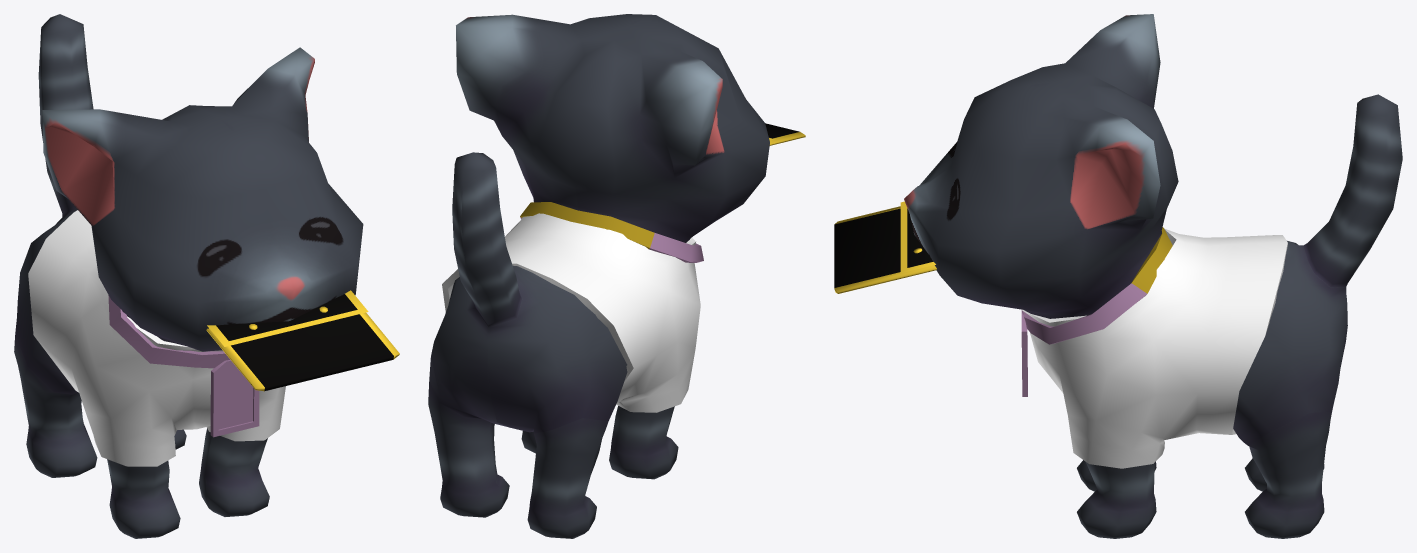
File: Student Cat01_04.fbx
3 views of the same model, side by side, from view 1: azimuth 30°, elevation 25°; view 2: azimuth 150°, elevation 25°; view 3: azimuth 270°, elevation 25° (orthographic). The views are drawn at different scales.
Parts seen in each view (by area): view 1: Cat_Base003, tshirt, Plastic Envelope, id; view 2: Cat_Base003, tshirt, id, Plastic Envelope; view 3: Cat_Base003, tshirt, Plastic Envelope, id.
Part boxes in pixels (x1,y1,x2,y2): Cat_Base003: (14, 14, 363, 538); tshirt: (28, 210, 285, 466); Plastic Envelope: (206, 290, 399, 391); id: (108, 295, 259, 437); Cat_Base003: (428, 14, 769, 538); tshirt: (442, 213, 700, 412); id: (520, 202, 703, 262); Plastic Envelope: (765, 123, 805, 145); Cat_Base003: (904, 14, 1402, 538); tshirt: (1022, 228, 1287, 468); Plastic Envelope: (834, 201, 936, 293); id: (1021, 227, 1172, 396).
Size of the model in its own units: 1.75 by 3.23 by 2.68.
6 materials, 1 textured.
